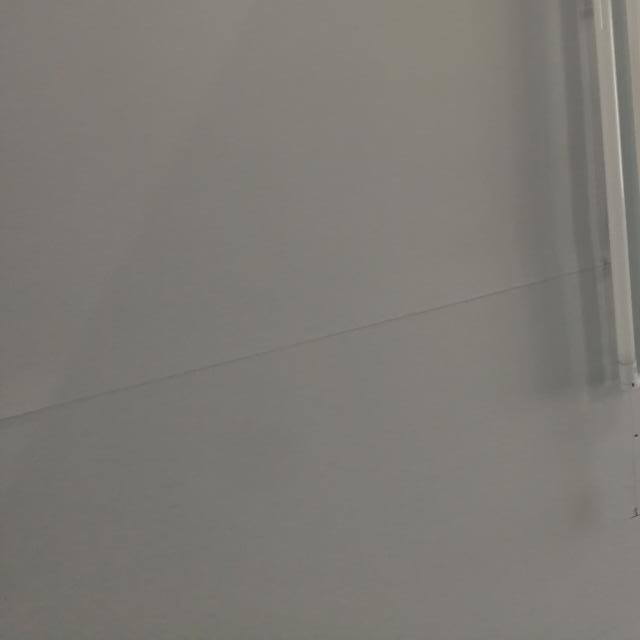fluorescent tube: (548, 0, 639, 397)
